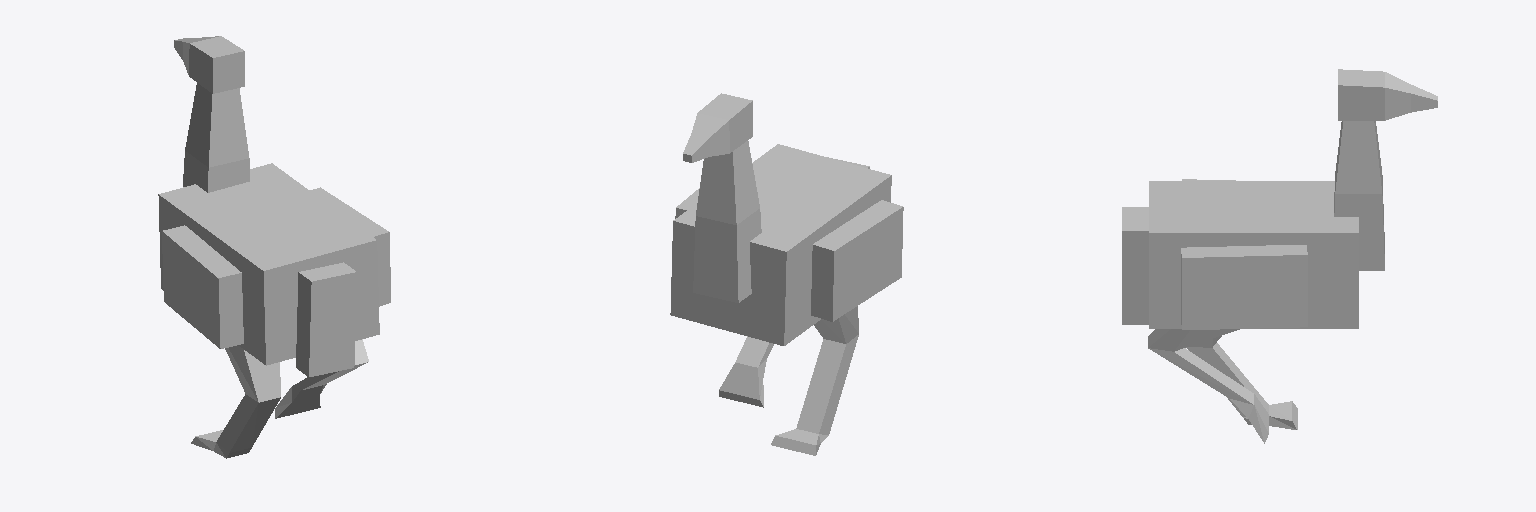
Rendered from Ostrich_000221.obj.
3 renders of one model, left to right at view 1: azimuth 30°, elevation 25°; view 2: azimuth 150°, elevation 25°; view 3: azimuth 270°, elevation 25°, orthographic.
Parts seen in each view (by area): view 1: Cube_Cube.001; view 2: Cube_Cube.001; view 3: Cube_Cube.001.
Boxes of the visible parts, box(x1,y1,x2,y2) form: Cube_Cube.001: box(158, 36, 390, 458); Cube_Cube.001: box(670, 93, 903, 455); Cube_Cube.001: box(1122, 69, 1437, 443).
Size of the model in its own units: 0.7612 by 1.51 by 1.2.